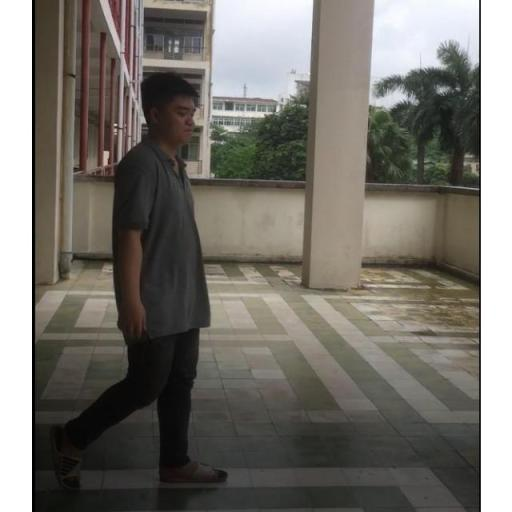Running: (40, 66, 241, 494)
